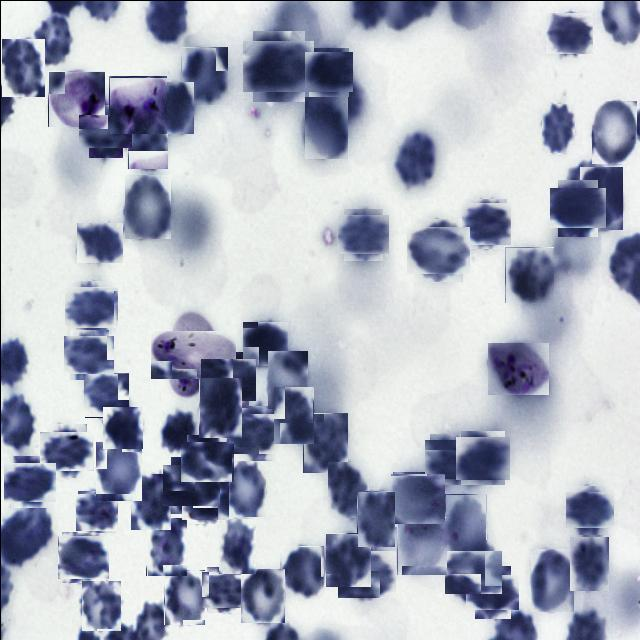red blood cell: (248, 34, 308, 96), (410, 222, 466, 277), (124, 174, 170, 238), (590, 99, 636, 163), (396, 516, 446, 574), (444, 493, 486, 561), (94, 440, 141, 500), (340, 546, 392, 600), (504, 246, 553, 302), (180, 46, 227, 104), (530, 548, 573, 611), (579, 166, 622, 229), (391, 472, 443, 524), (302, 412, 347, 472), (304, 96, 347, 158), (198, 376, 241, 437), (447, 547, 498, 597), (166, 460, 216, 510), (222, 458, 265, 516), (1, 38, 44, 96), (324, 532, 370, 586), (458, 432, 507, 482), (202, 355, 252, 404), (552, 184, 602, 232), (145, 517, 186, 575), (272, 386, 313, 444), (240, 568, 284, 622), (66, 282, 115, 330), (280, 545, 324, 598), (267, 350, 307, 408), (230, 408, 278, 456), (327, 461, 368, 517), (42, 427, 90, 474), (59, 533, 107, 580), (163, 569, 204, 624), (130, 473, 170, 529), (126, 114, 167, 168), (182, 438, 230, 484), (395, 130, 434, 186), (356, 490, 394, 546), (462, 200, 508, 246), (6, 458, 52, 504), (569, 536, 608, 590), (340, 211, 385, 257), (80, 579, 120, 630), (218, 518, 255, 573), (427, 436, 472, 481), (242, 320, 286, 366), (547, 10, 591, 55), (470, 569, 514, 614), (84, 372, 128, 417), (33, 14, 71, 65), (66, 332, 110, 376), (306, 50, 350, 94), (182, 478, 226, 522), (83, 109, 127, 152), (76, 222, 122, 262), (568, 488, 610, 531), (159, 81, 193, 133), (204, 568, 245, 610), (102, 406, 142, 448), (541, 103, 574, 152), (76, 491, 116, 531), (161, 406, 194, 452)
trophozoite: (158, 320, 226, 388), (108, 75, 166, 134), (486, 341, 548, 394), (47, 70, 104, 126)
